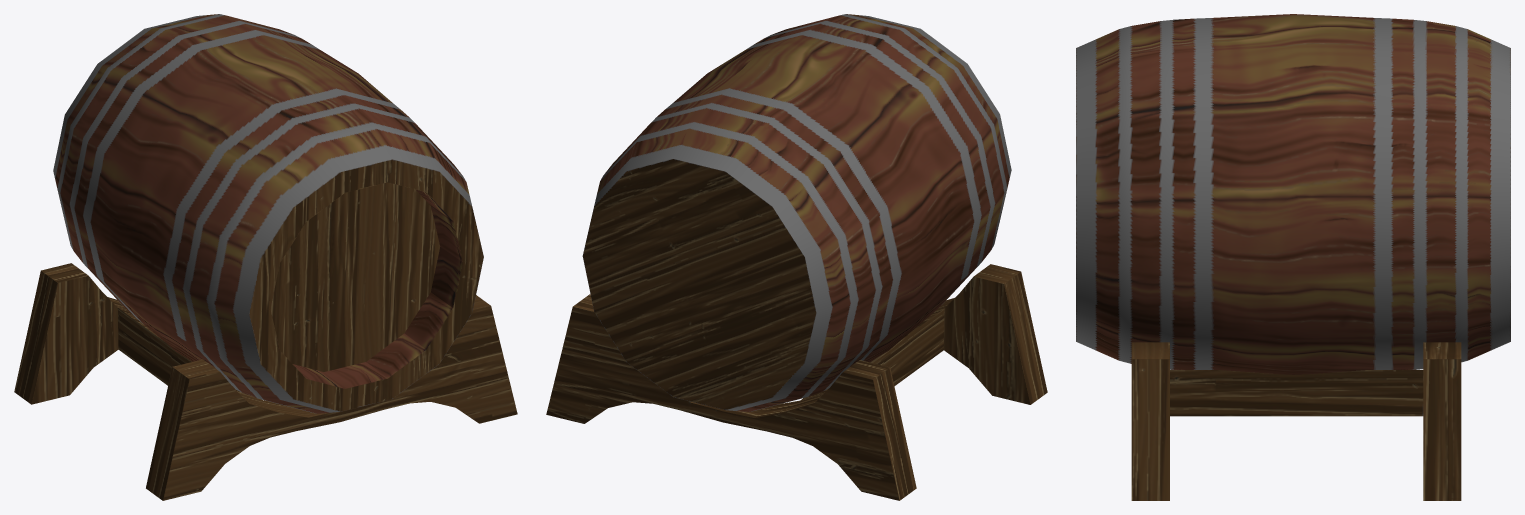
Rendered from Barrel_3.fbx.
The picture shows the model from 3 angles, left to right: view 1: azimuth 30°, elevation 25°; view 2: azimuth 150°, elevation 25°; view 3: azimuth 270°, elevation 25°; orthographic projection. The views are drawn at different scales.
Parts seen in each view (by area): view 1: BarileChiusoAppoggiato; view 2: BarileChiusoAppoggiato; view 3: BarileChiusoAppoggiato.
Boxes of the visible parts, <box> form: BarileChiusoAppoggiato: <box>14,14,517,500</box>; BarileChiusoAppoggiato: <box>546,14,1047,500</box>; BarileChiusoAppoggiato: <box>1076,14,1510,500</box>.
Size of the model in its own units: 0.741 by 0.6737 by 0.7092.
